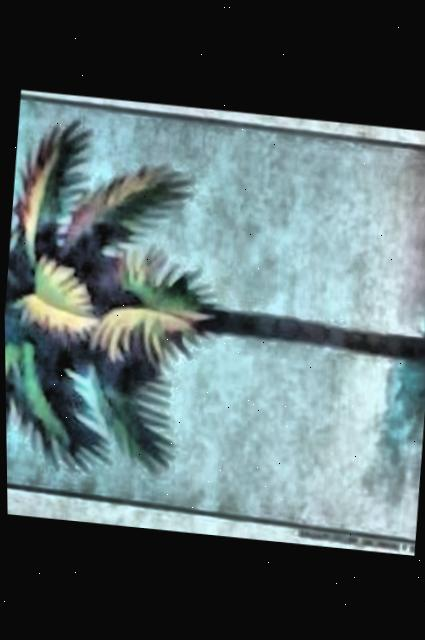La Palma: (4, 98, 425, 538)
